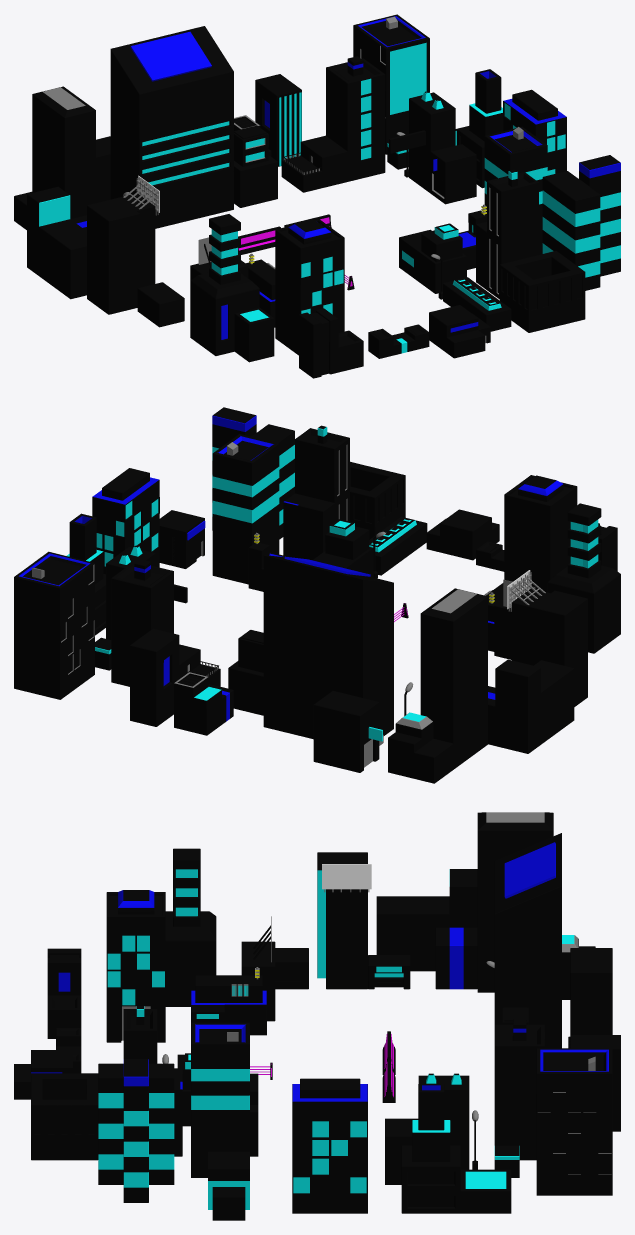
The model's file is assets.FBX.
3 renders of one model, top to bottom at view 1: azimuth 30°, elevation 25°; view 2: azimuth 150°, elevation 25°; view 3: azimuth 270°, elevation 25°, orthographic. The views are drawn at different scales.
Parts seen in each view (by area): view 1: Box169, Box171, Box224, Box221, Box162, Box158, Box167, Box223, Box220, Box168, Box229, Box222 (+20 smaller); view 2: Box169, Box229, Box167, Box182, Box220, Box168, Box158, Box171, Box162, Box221, Box225, Box230 (+19 smaller); view 3: Box229, Box169, Box225, Box224, Box168, Box228, Box182, Box158, Box221, Box223, Box162, Box171 (+20 smaller).
Part boxes in pixels (<box>): Box169: <box>110,26,233,228</box>; Box171: <box>281,56,385,192</box>; Box224: <box>542,155,620,290</box>; Box221: <box>190,214,274,362</box>; Box162: <box>87,193,155,314</box>; Box158: <box>275,219,344,355</box>; Box167: <box>32,86,95,218</box>; Box223: <box>499,251,585,332</box>; Box220: <box>476,169,538,299</box>; Box168: <box>27,186,86,299</box>; Box229: <box>353,14,429,154</box>; Box222: <box>299,308,363,378</box>; Box169: <box>263,555,393,739</box>; Box229: <box>14,551,94,699</box>; Box167: <box>420,588,487,769</box>; Box182: <box>212,434,279,584</box>; Box220: <box>283,425,349,560</box>; Box168: <box>488,659,574,753</box>; Box158: <box>504,475,577,592</box>; Box171: <box>111,559,220,686</box>; Box162: <box>511,589,587,706</box>; Box221: <box>547,503,620,653</box>; Box225: <box>92,468,159,574</box>; Box230: <box>313,691,379,772</box>; Box229: <box>536,1048,612,1195</box>; Box169: <box>494,833,561,1048</box>; Box225: <box>292,1078,367,1213</box>; Box224: <box>98,1059,174,1202</box>; Box168: <box>376,869,477,989</box>; Box228: <box>401,1083,511,1213</box>; Box182: <box>191,1022,249,1177</box>; Box158: <box>106,890,165,1042</box>; Box221: <box>165,848,216,1006</box>; Box223: <box>31,1073,98,1160</box>; Box162: <box>317,852,367,989</box>; Box171: <box>494,1019,544,1160</box>.
Size of the model in its own units: 2953 by 979 by 2835.
Materials: 1 (1 with a texture image).
